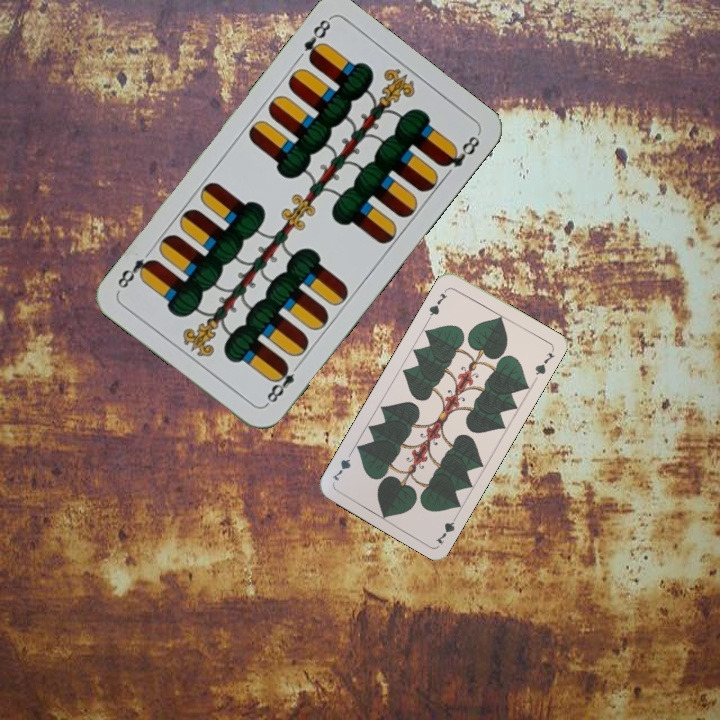E8: (261, 359, 304, 408), (299, 14, 334, 66)
G7: (431, 509, 461, 547), (425, 285, 450, 322)
